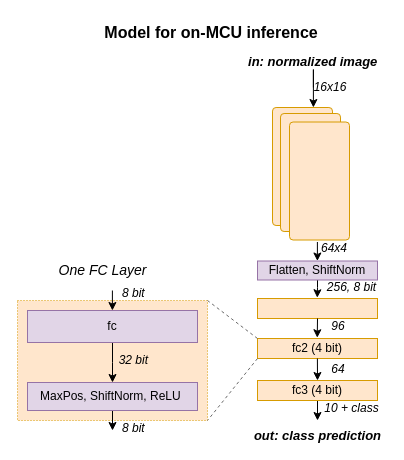
Image size: 404x460. Some labels were removed from this diagram. Here are the shapes that lost their labels. From the top down, the centre of each, then its label:
At (x=319, y=180): "64x".
At (x=317, y=308): "fc1 (2 bit)".
